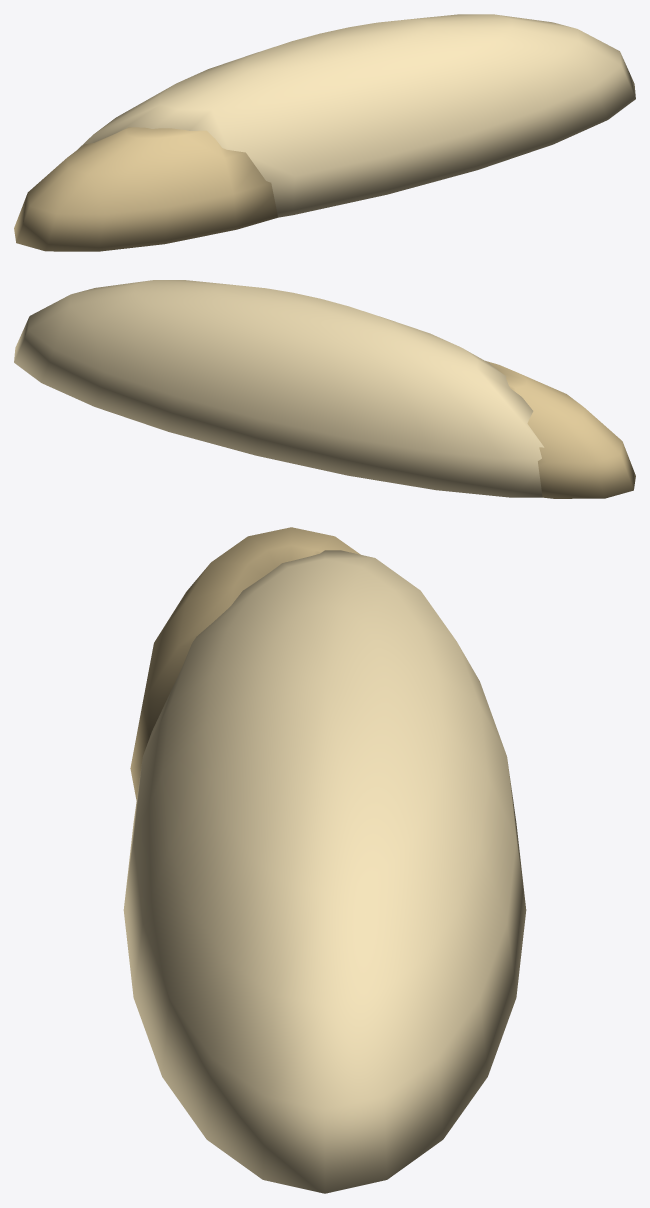
The model's file is Desert_Dune1.fbx.
3 renders of one model, top to bottom at view 1: azimuth 30°, elevation 25°; view 2: azimuth 150°, elevation 25°; view 3: azimuth 270°, elevation 25°, orthographic. The views are drawn at different scales.
Visible parts, largest first — view 1: Desert_Dune1; view 2: Desert_Dune1; view 3: Desert_Dune1.
Boxes of the visible parts, x1=… form: Desert_Dune1: x1=14, y1=14, x2=635, y2=251; Desert_Dune1: x1=14, y1=280, x2=635, y2=498; Desert_Dune1: x1=123, y1=527, x2=526, y2=1193.
Bounding box in the file's own units: 16.8 × 3 × 4.8.
